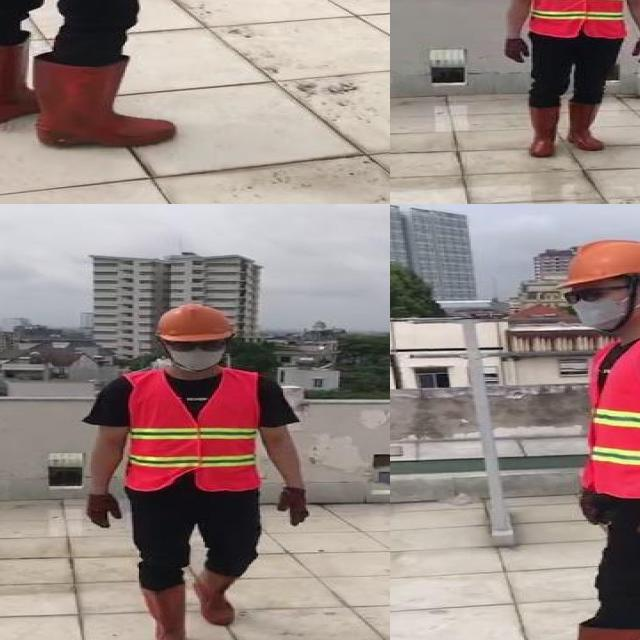boots: (32, 55, 176, 146), (0, 39, 37, 130), (135, 585, 188, 640), (192, 569, 237, 626), (564, 99, 606, 151), (528, 103, 562, 159)
face_mask: (560, 285, 630, 331), (163, 336, 227, 371)
glasses: (559, 284, 613, 308), (163, 337, 225, 354)
hand_glove: (86, 493, 123, 530), (278, 487, 310, 524), (576, 496, 614, 526), (503, 39, 531, 62), (635, 36, 640, 63)
head_helmet: (562, 238, 640, 287), (153, 302, 233, 342)
person: (82, 302, 313, 640), (508, 238, 640, 640), (0, 0, 209, 154), (496, 0, 640, 163)
vest: (119, 370, 260, 493), (582, 329, 640, 496), (529, 0, 628, 40)
